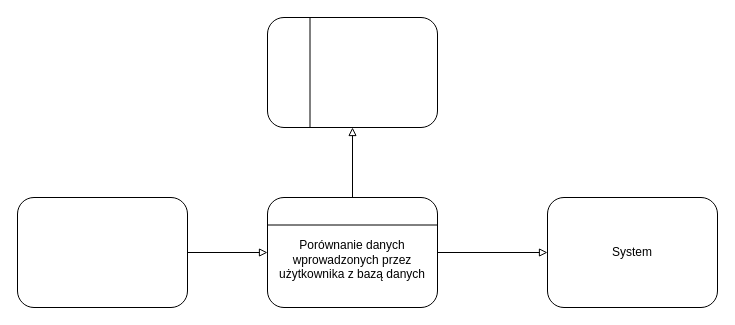
Some shapes in this 735 by 325 pixel diagram are drawn without their labels. Here are the shapes that lost their labels. From the top down, the centre of each, then its label:
At pixel 352 72: "Baza danych".
At pixel 102 252: "Użytkownik".
